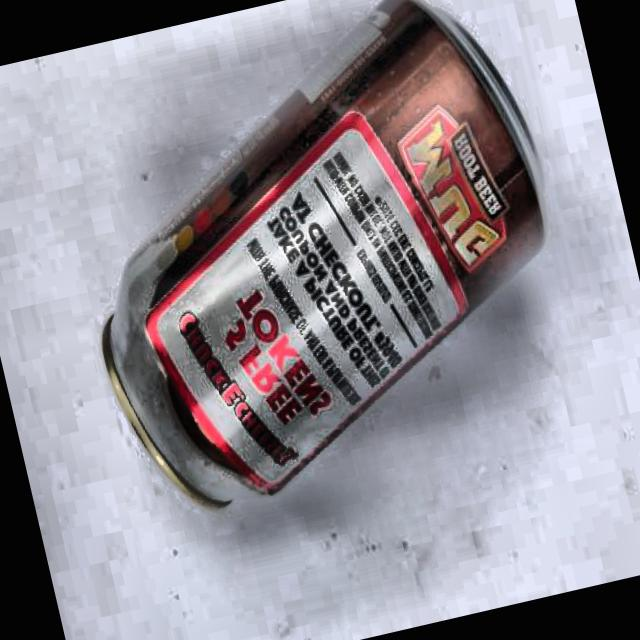metal: (34, 0, 602, 530)
